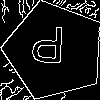P: (29, 25, 66, 73)
